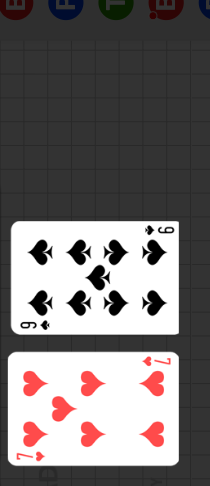7H: (15, 450, 47, 462)
9S: (143, 224, 176, 237)
